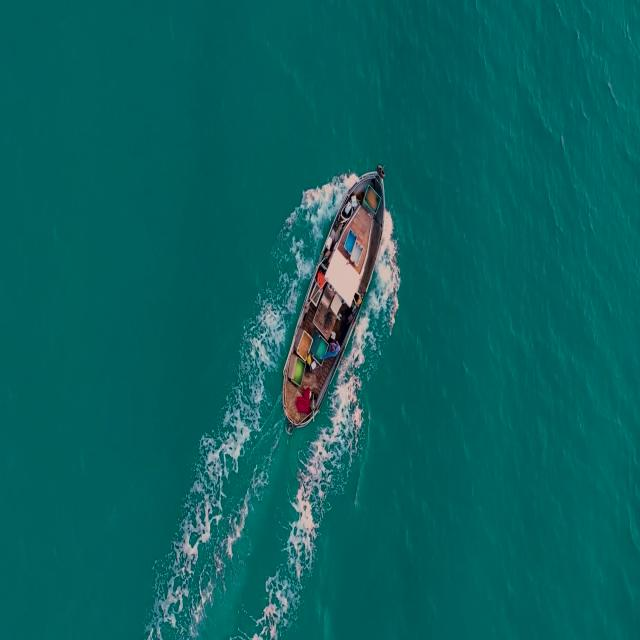ship: (277, 165, 388, 428)
